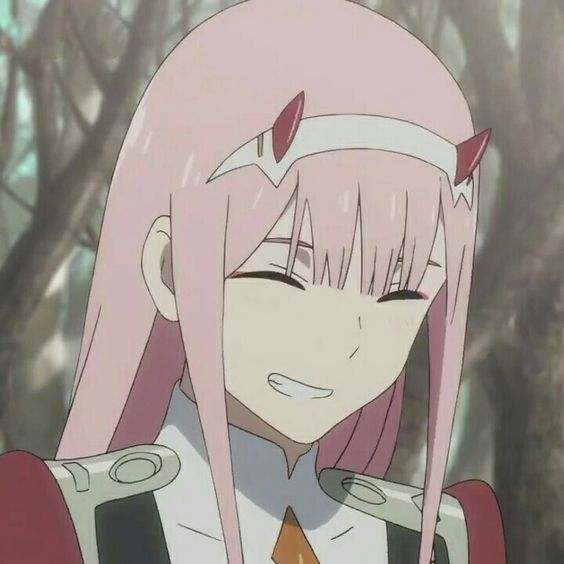zeroTwo: (103, 1, 501, 445)
